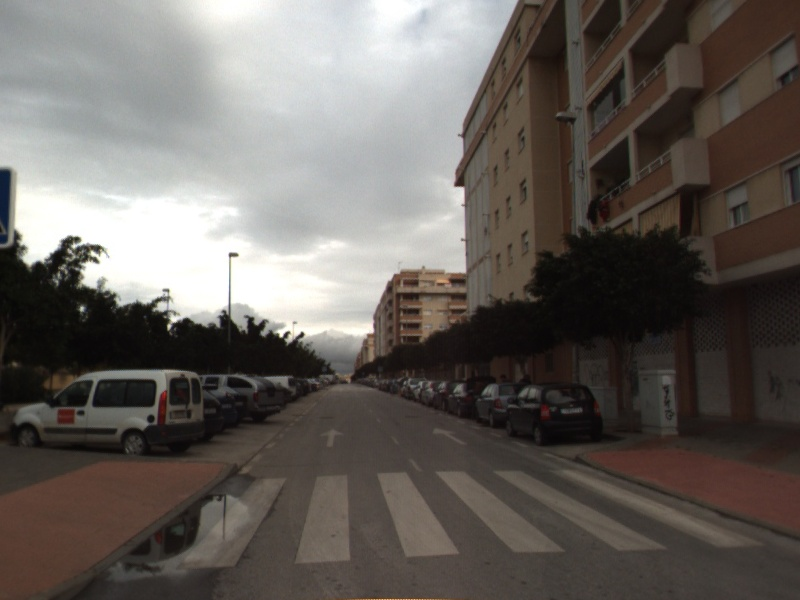STRAIGHT: (430, 425, 469, 446), (318, 426, 347, 449)
